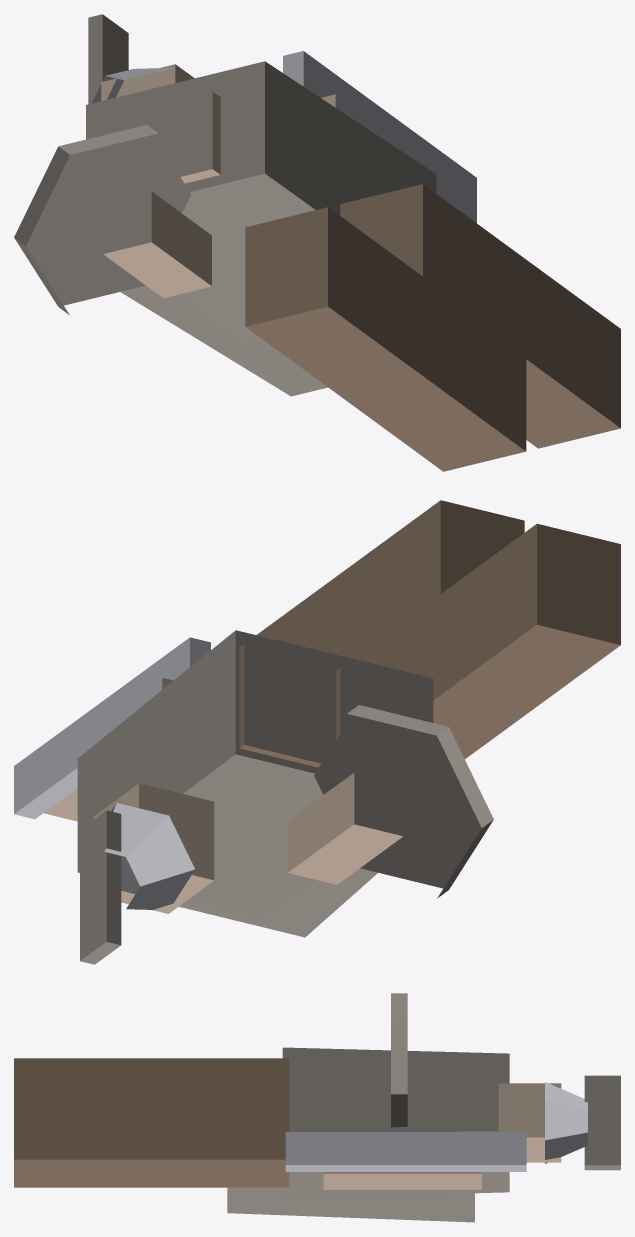
The model's file is heavy_infantry.glb.
The picture shows the model from 3 angles, top to bottom: view 1: azimuth 30°, elevation 25°; view 2: azimuth 150°, elevation 25°; view 3: azimuth 270°, elevation 25°; orthographic projection. The views are drawn at different scales.
Parts seen in each view (by area): view 1: heavy_infantry; view 2: heavy_infantry; view 3: heavy_infantry.
Part boxes in pixels (x1=…): heavy_infantry: x1=14, y1=14, x2=620, y2=471; heavy_infantry: x1=14, y1=500, x2=620, y2=964; heavy_infantry: x1=14, y1=993, x2=620, y2=1222.
Bounding box in the file's own units: 0.924 × 0.4244 × 1.84.
